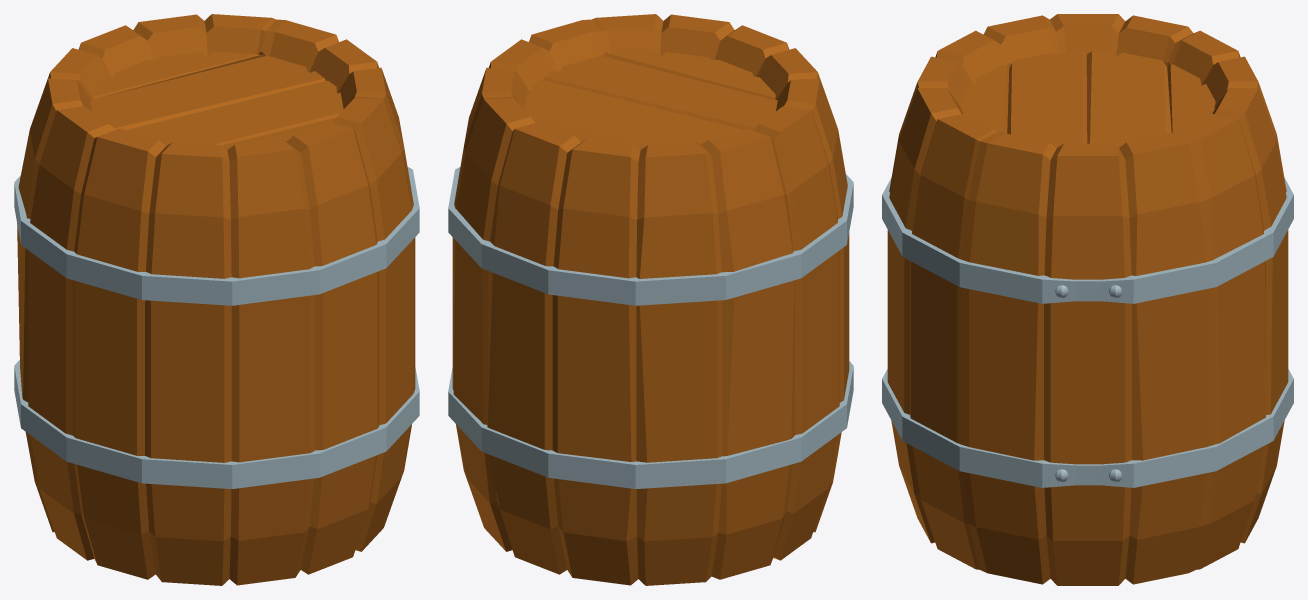
File: Barrel.fbx
The picture shows the model from 3 angles, left to right: view 1: azimuth 30°, elevation 25°; view 2: azimuth 150°, elevation 25°; view 3: azimuth 270°, elevation 25°; orthographic projection.
Visible parts, largest first — view 1: barrel, ring.001, ring; view 2: barrel, ring.001, ring; view 3: barrel, ring.001, ring.
Boxes of the visible parts, bbox=[...] form: barrel: bbox=[17, 14, 415, 585]; ring.001: bbox=[14, 167, 419, 305]; ring: bbox=[14, 360, 419, 488]; barrel: bbox=[452, 14, 849, 585]; ring.001: bbox=[448, 167, 853, 305]; ring: bbox=[448, 361, 853, 488]; barrel: bbox=[887, 14, 1288, 585]; ring.001: bbox=[882, 177, 1293, 303]; ring: bbox=[882, 369, 1293, 487].
Size of the model in its own units: 213 by 249 by 216.
